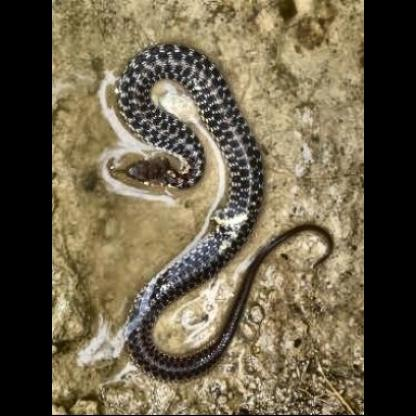Snake: (107, 43, 282, 380)
